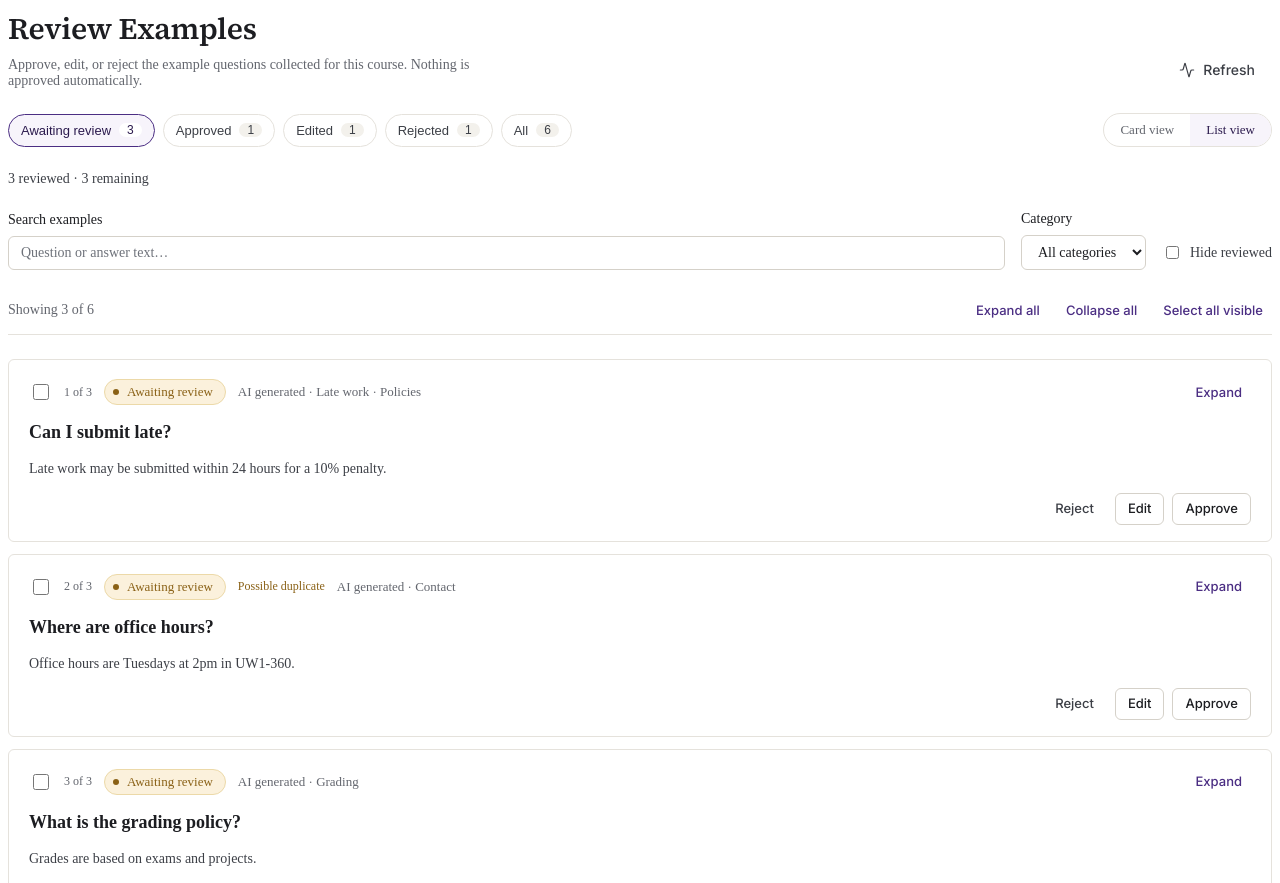
Scenario: ReviewExamplesPage list view › metadata on a row › marks a student submission as such
This screenshot has width=1280, height=883.
Expected: the text "Can I submit late?" is shown, [29,422,172,442]
Click the tab "Rejected 1".
click(439, 130)  # box [385,114,493,146]
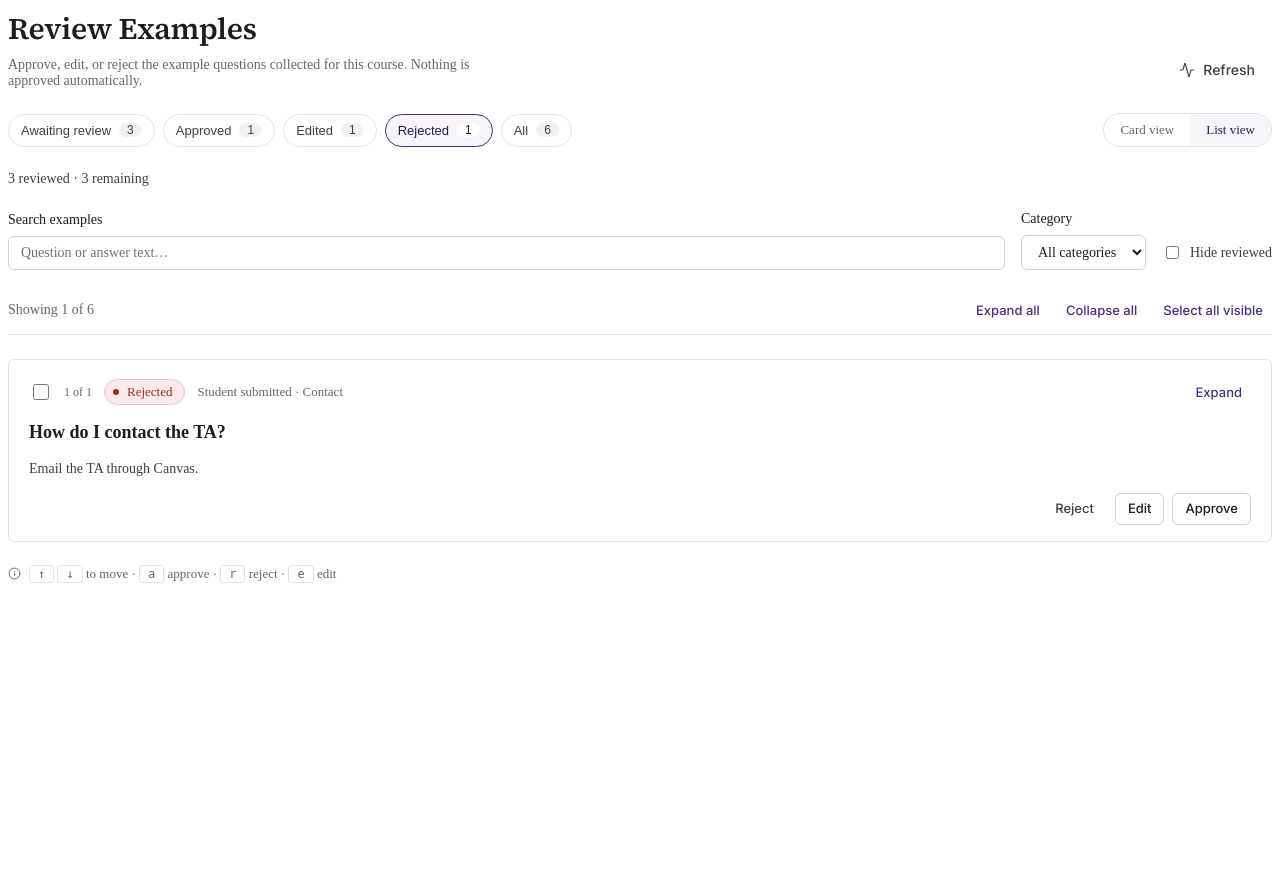
Expected: the text "Student submitted · Contact" is shown, [198,384,343,400]
